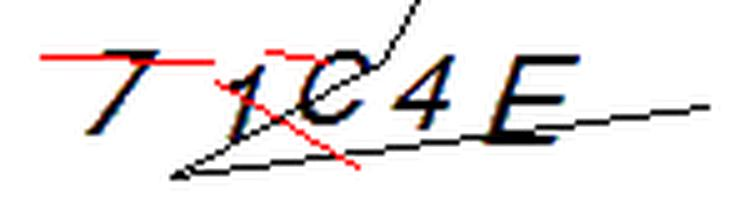1: (204, 56, 274, 151)
4: (387, 45, 465, 137)
7: (76, 38, 166, 147)
C: (293, 40, 376, 132)
E: (480, 46, 588, 152)
